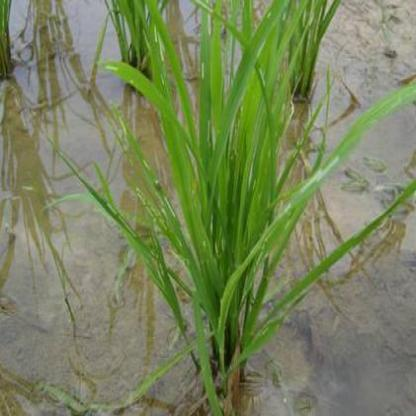rice-bug: (152, 178, 166, 196)
